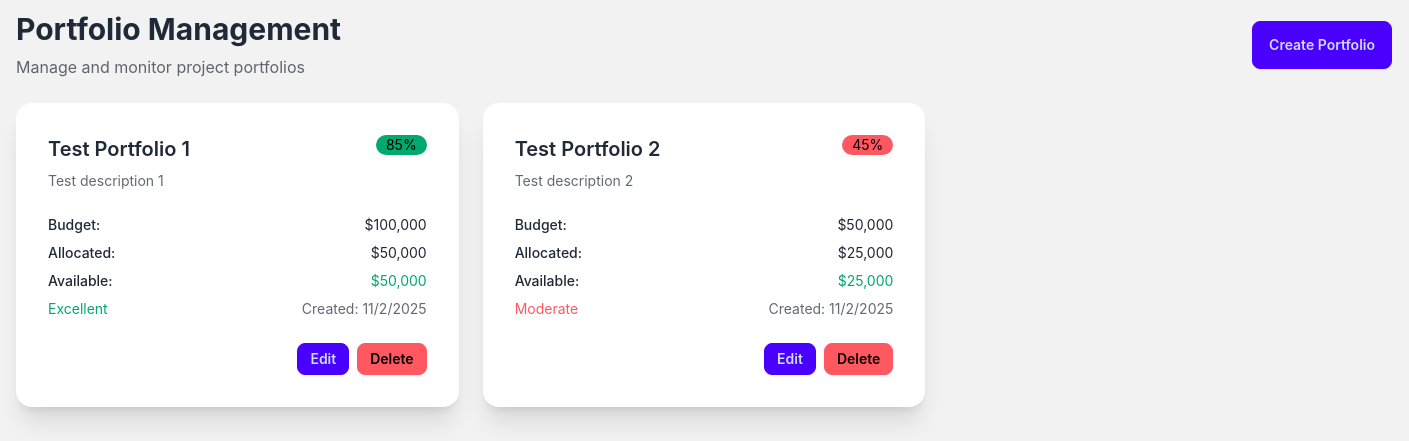
Test: PortfolioList › cancels edit mode when cancel button is clicked
This screenshot has width=1409, height=441.
Enter edit mode
Click the button "Edit" below "Excellent" at coordinates (323, 359), box [297,343,349,375]
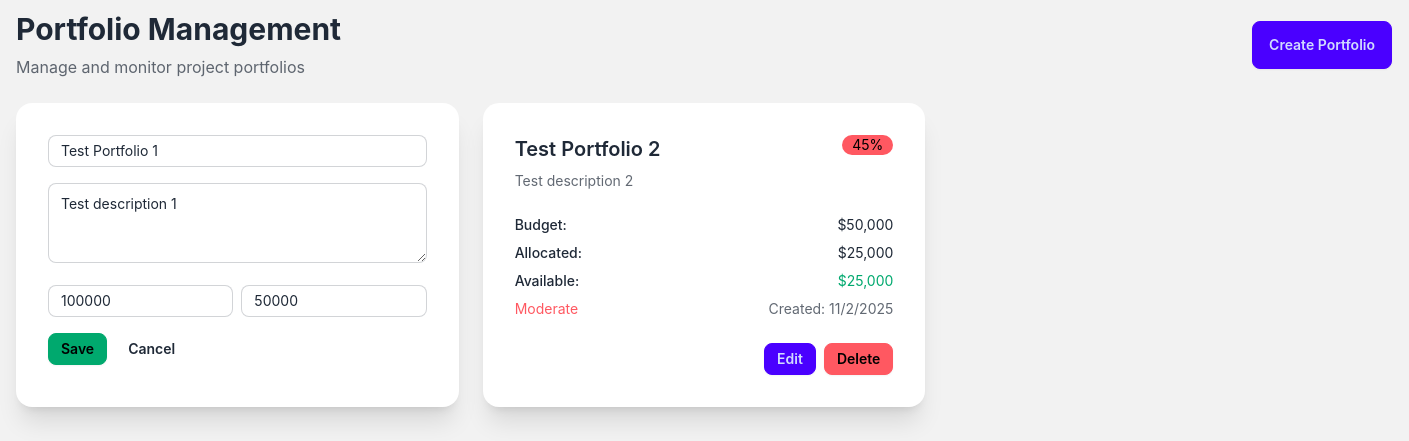
Click cancel
Click the button "Cancel" at coordinates (152, 349), box [115,333,188,365]
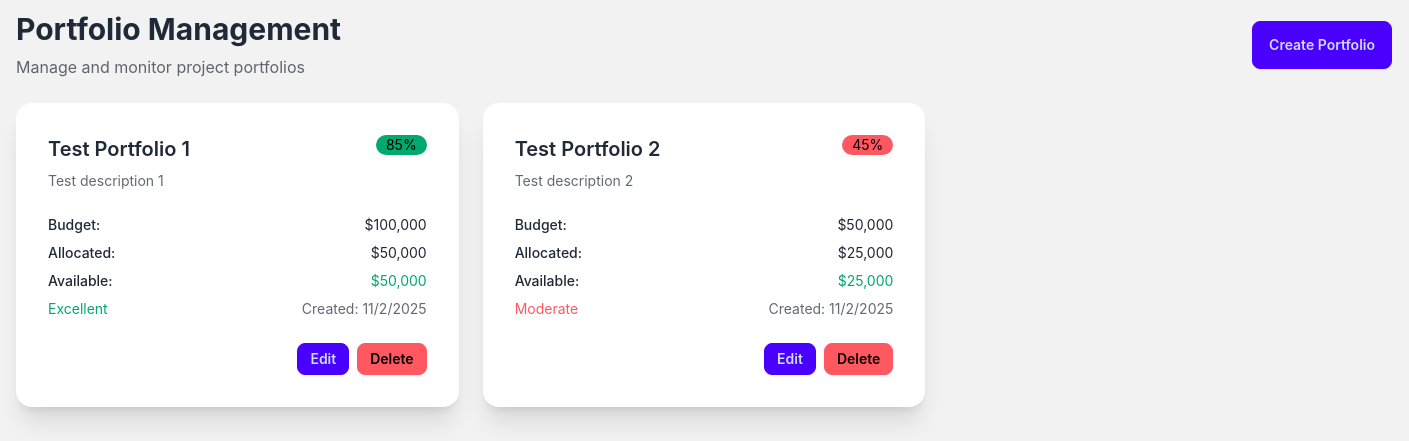
Now the button "Save" is gone
Now the button "Cancel" is gone
Now the heading "Test Portfolio 1" is shown, box [48,135,190,163]
